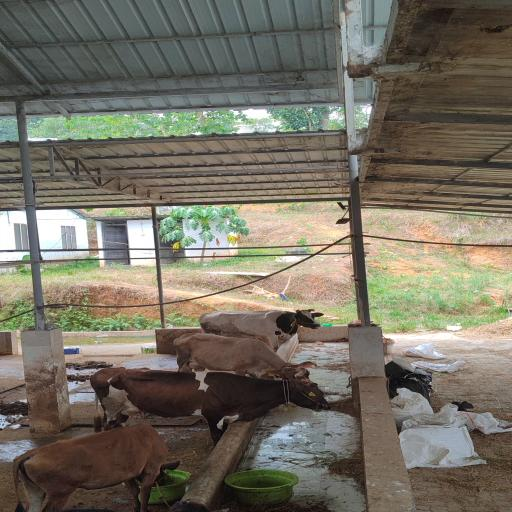cow-feeding: (175, 334, 315, 383)
cow-standing: (91, 368, 329, 445), (14, 424, 169, 511), (199, 309, 323, 360)
